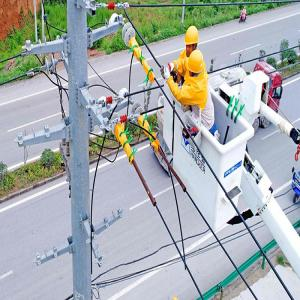yellow: (184, 24, 201, 58), (187, 51, 205, 79)
